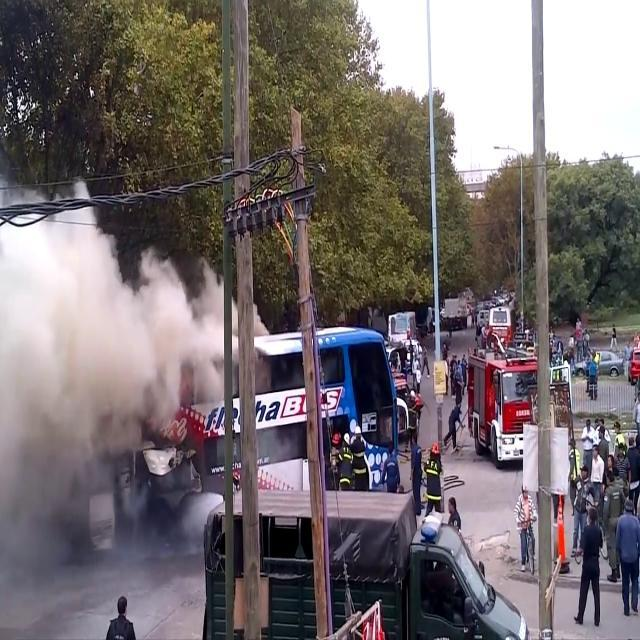Smoke: (0, 198, 220, 491)
